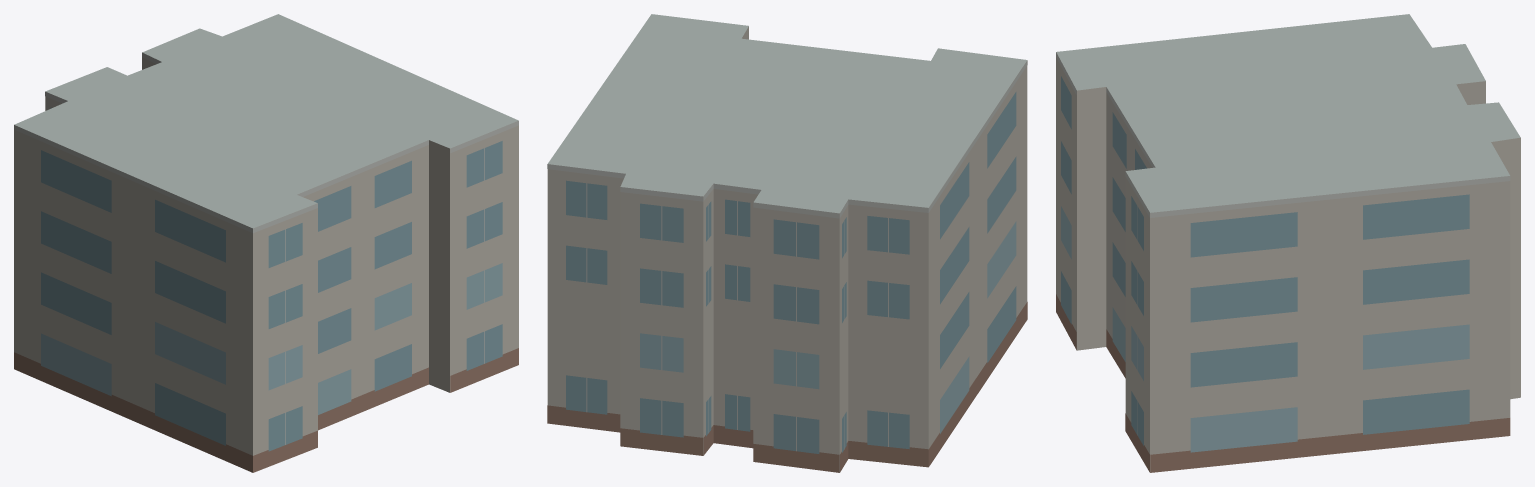
File: survey-upis-32876634.glb
The picture shows the model from 3 angles, left to right: view 1: azimuth 30°, elevation 25°; view 2: azimuth 150°, elevation 25°; view 3: azimuth 270°, elevation 25°; orthographic projection. The views are drawn at different scales.
Parts seen in each view (by area): view 1: survey-upis-32876634.tmp; view 2: survey-upis-32876634.tmp; view 3: survey-upis-32876634.tmp.
Part boxes in pixels (left/top/right/bottom): survey-upis-32876634.tmp: left=14, top=14, right=518, bottom=472; survey-upis-32876634.tmp: left=547, top=14, right=1027, bottom=472; survey-upis-32876634.tmp: left=1056, top=14, right=1520, bottom=472.
Size of the model in its own units: 20.29 by 12.37 by 20.04.
